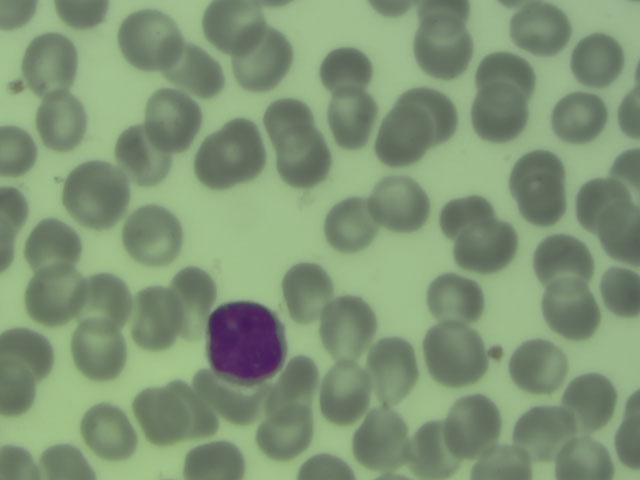RBC: (168, 263, 216, 345), (391, 83, 462, 131), (322, 197, 379, 253), (255, 408, 312, 464), (263, 360, 320, 416), (199, 374, 256, 430), (143, 385, 200, 441), (77, 400, 134, 456), (71, 324, 128, 380), (72, 275, 129, 331), (122, 208, 179, 264), (25, 268, 82, 324), (24, 219, 81, 275), (64, 168, 121, 224), (112, 125, 169, 181), (145, 92, 202, 148), (233, 30, 290, 86), (164, 41, 221, 97), (117, 10, 174, 66), (33, 92, 90, 148), (21, 35, 78, 91), (516, 406, 573, 462), (443, 394, 500, 450), (403, 421, 460, 477), (353, 408, 410, 464), (365, 342, 422, 398), (319, 362, 376, 418), (317, 296, 374, 352), (277, 262, 334, 318), (415, 24, 472, 80), (378, 107, 435, 163), (321, 92, 378, 148), (318, 40, 375, 96), (263, 94, 320, 150), (200, 124, 257, 180), (427, 268, 484, 324), (428, 328, 485, 384), (509, 339, 566, 395), (560, 372, 617, 428), (512, 174, 569, 230), (507, 142, 564, 198), (471, 88, 528, 144), (553, 92, 610, 148), (567, 29, 624, 85), (371, 175, 428, 231), (271, 131, 328, 187), (458, 221, 515, 277), (541, 284, 598, 340), (534, 231, 591, 287), (574, 175, 631, 231), (179, 433, 248, 479), (1, 325, 57, 381), (206, 1, 263, 56), (516, 1, 573, 55), (126, 287, 179, 345), (476, 50, 539, 94), (30, 439, 95, 480), (1, 355, 40, 420), (555, 435, 609, 480), (470, 445, 534, 480), (441, 189, 497, 228), (1, 125, 41, 178), (613, 396, 640, 471), (605, 206, 640, 263), (1, 183, 31, 249), (603, 265, 640, 316), (51, 1, 113, 28), (613, 149, 640, 205), (414, 1, 472, 27), (1, 440, 38, 479), (296, 454, 351, 480), (1, 1, 42, 26)
WBC: (202, 298, 290, 383)
